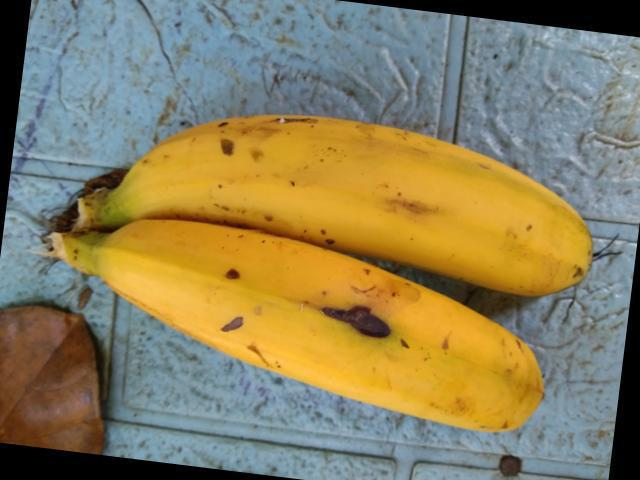freshripe: (109, 91, 593, 290)
ripe: (107, 234, 593, 479)
